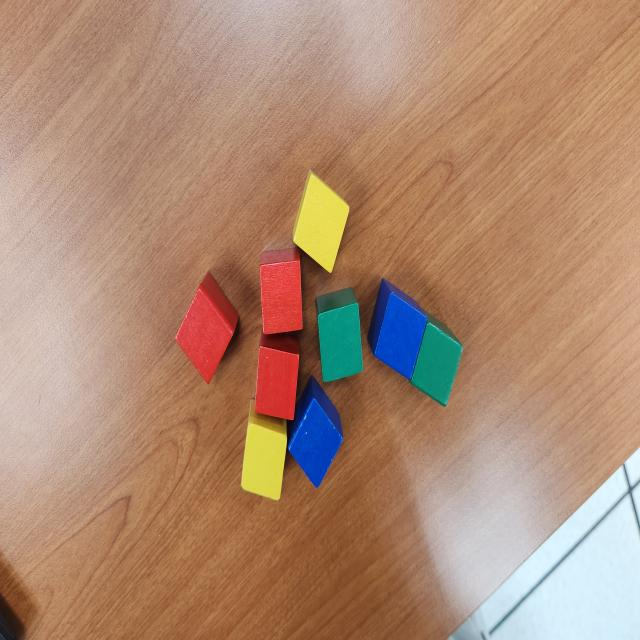blue: (286, 375, 344, 488), (368, 279, 428, 379)
green: (409, 315, 464, 407), (315, 286, 363, 384)
red: (176, 273, 240, 385), (255, 329, 300, 422), (256, 247, 303, 336)
yellow: (294, 171, 349, 273), (240, 398, 288, 500)
